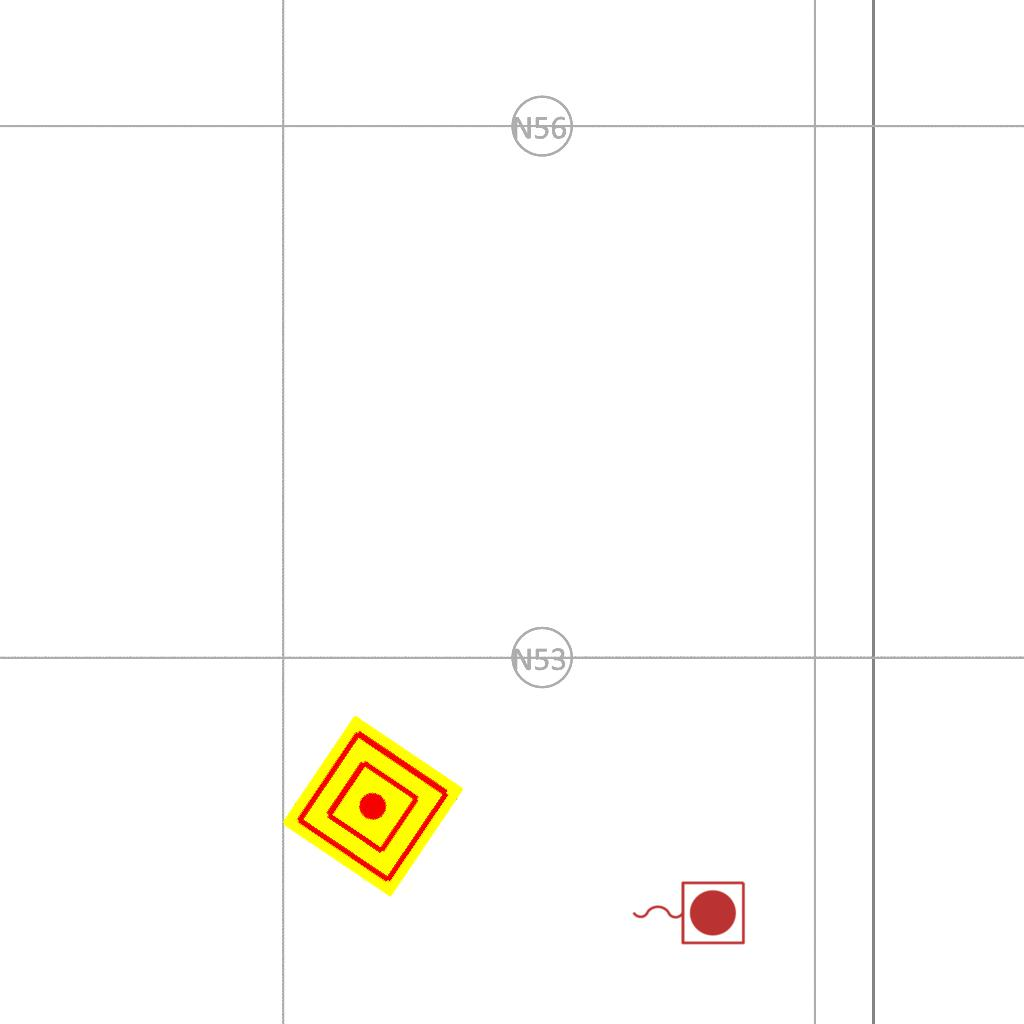NAM-Nichtautomatischer_Melder: (281, 714, 465, 898)
Zugtaster: (627, 876, 749, 948)
